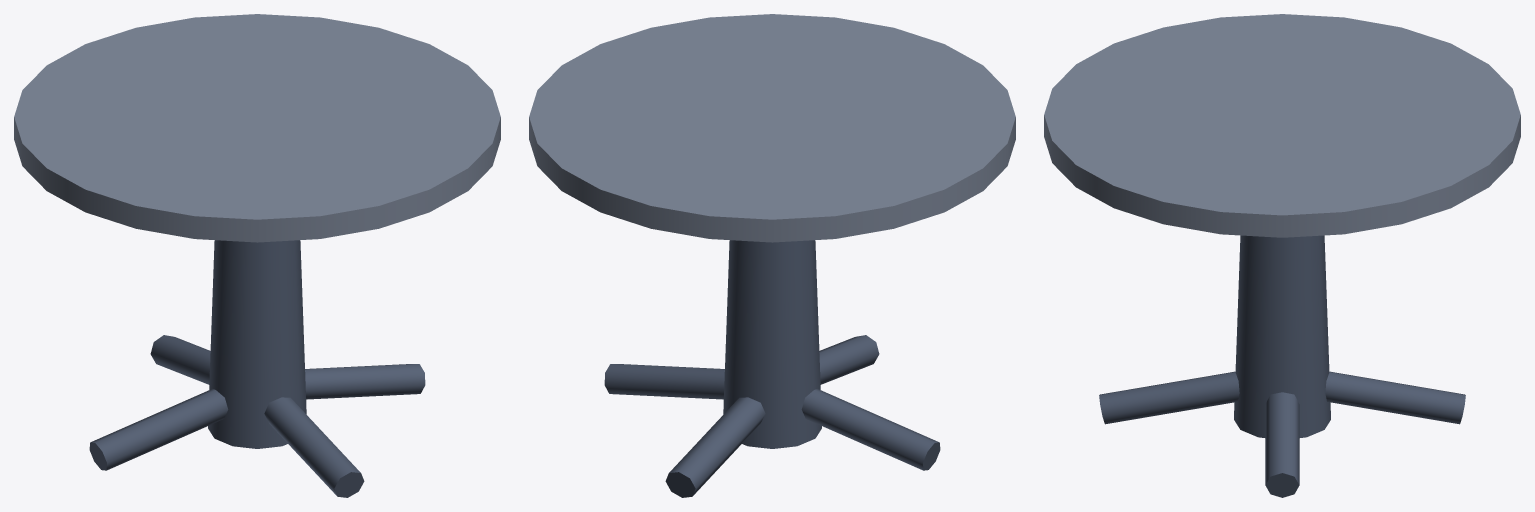
Rendered from garden-table-round-lite.glb.
3 views of the same model, side by side, from view 1: azimuth 30°, elevation 25°; view 2: azimuth 150°, elevation 25°; view 3: azimuth 270°, elevation 25° (orthographic). The views are drawn at different scales.
Visible parts, largest first — view 1: garden-table-round; view 2: garden-table-round; view 3: garden-table-round.
Boxes of the visible parts, box(x1,y1,x2,y2) form: garden-table-round: box(14, 14, 500, 497); garden-table-round: box(529, 14, 1015, 497); garden-table-round: box(1044, 14, 1520, 497).
Bounding box in the file's own units: 1.05 × 0.75 × 1.05.
